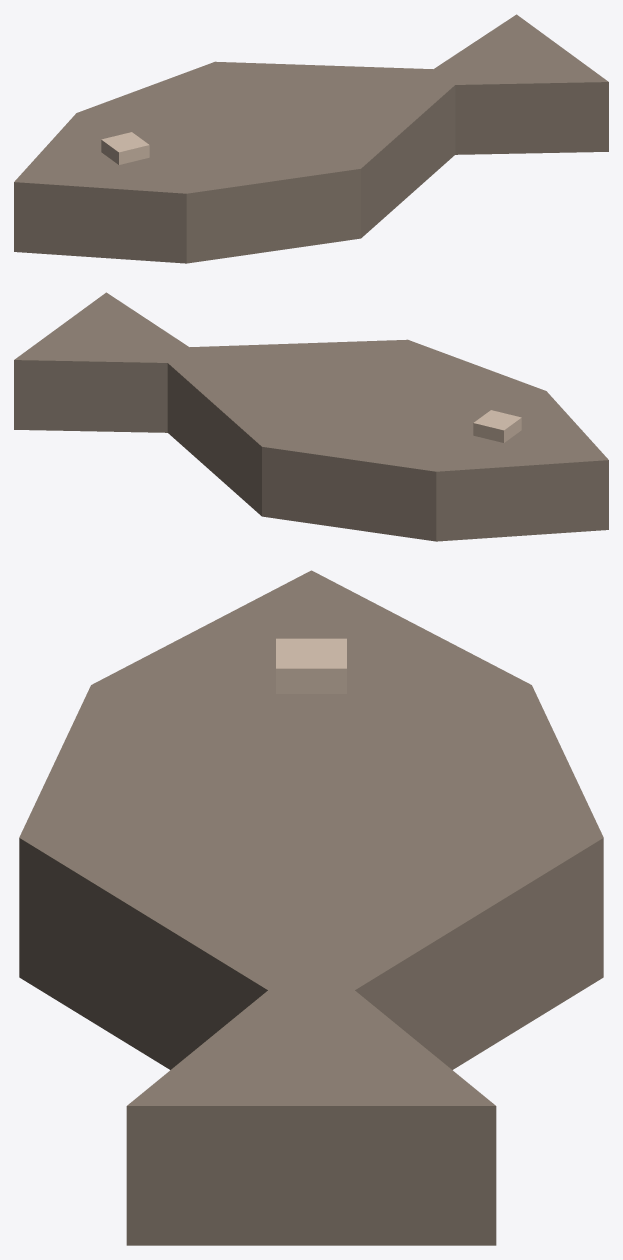
The model's file is Fish.fbx.
3 views of the same model, one above another, from view 1: azimuth 30°, elevation 25°; view 2: azimuth 150°, elevation 25°; view 3: azimuth 270°, elevation 25° (orthographic). The views are drawn at different scales.
Parts seen in each view (by area): view 1: polySurface45; view 2: polySurface45; view 3: polySurface45.
Boxes of the visible parts, x1=… form: polySurface45: x1=14, y1=14, x2=608, y2=263; polySurface45: x1=14, y1=292, x2=608, y2=541; polySurface45: x1=19, y1=570, x2=603, y2=1245.
Size of the model in its own units: 229 by 36.08 by 105.
